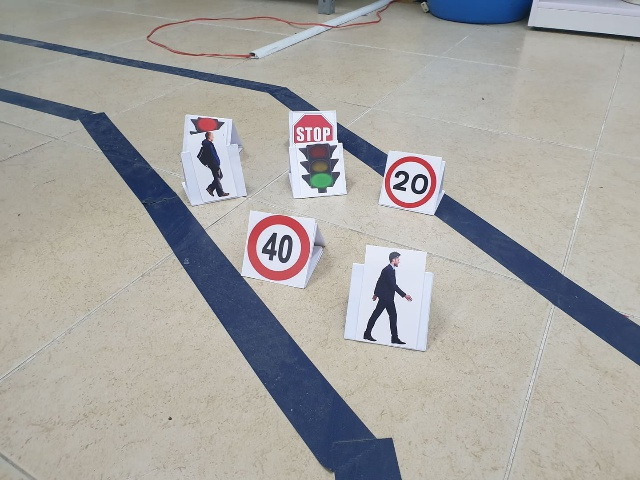Green: (297, 143, 343, 193)
Limit 20: (385, 154, 436, 211)
Limit 40: (250, 217, 306, 285)
Person: (368, 249, 414, 347), (195, 132, 231, 196)
Red: (185, 114, 224, 130)
Stop: (291, 113, 333, 140)
